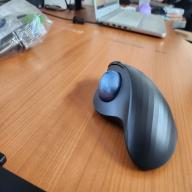mouse: (95, 52, 179, 172)
